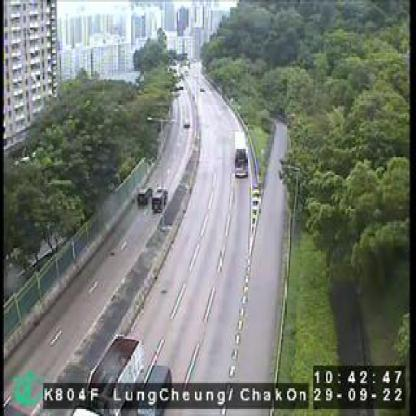Bus: (229, 128, 248, 179)
Car: (150, 180, 167, 213), (135, 184, 152, 203)
Truck: (69, 333, 149, 414)
